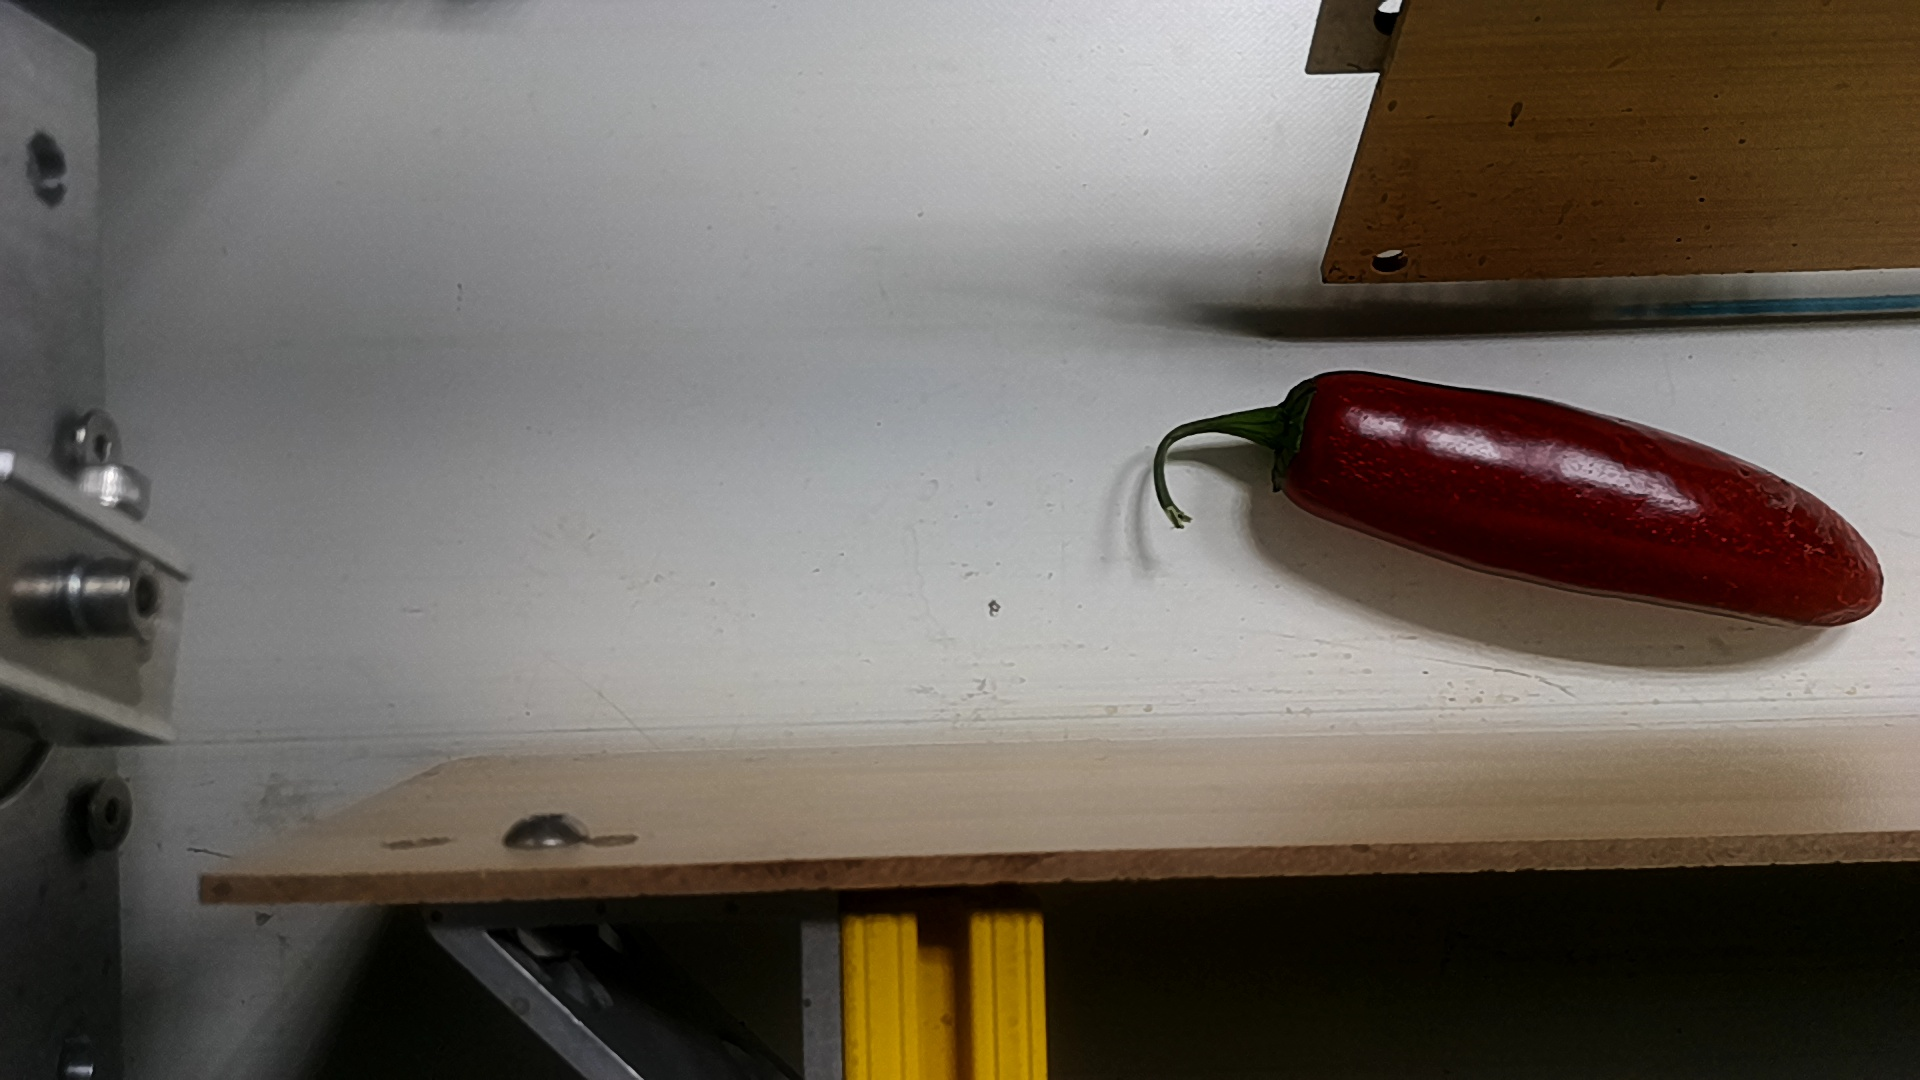Cut Point: (1240, 357, 1357, 524)
